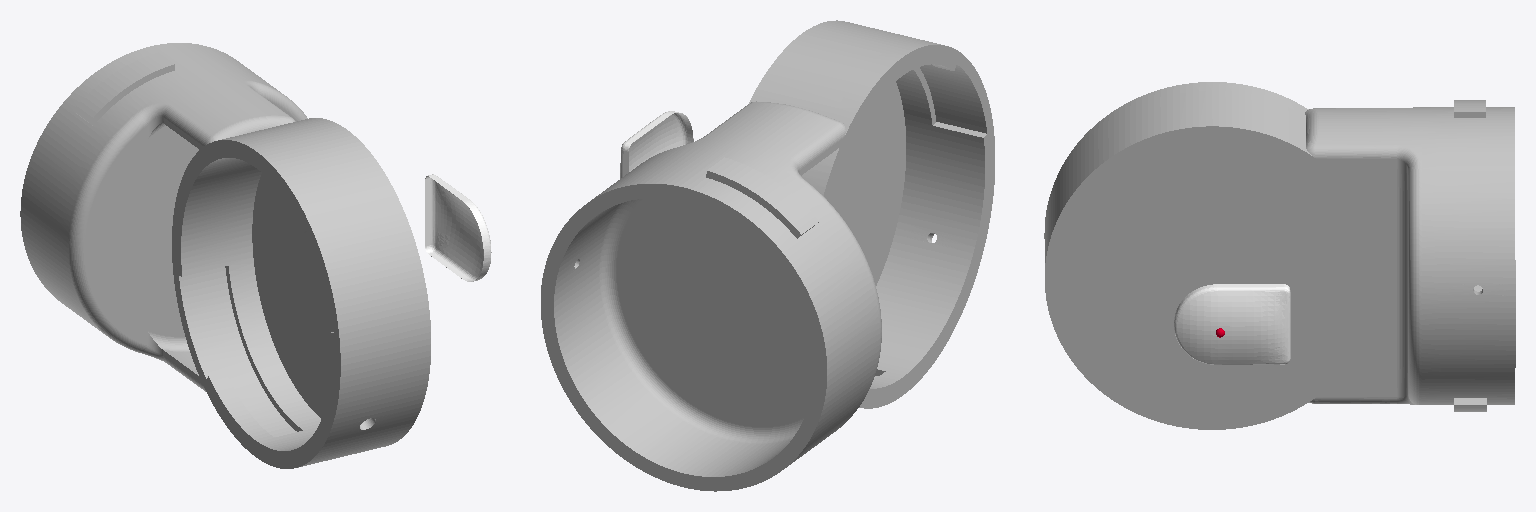
The robot description file, URDF, robot "universal_robot":
<?xml version="1.0"?>
<!--FOR GRIPPER, THERE IS NO LINK INERTIA DEFINED HERE-->
<robot name="universal_robot">

  <!-- Colors -->
  <material name="DarkGrey">
    <color rgba="0.2 0.2 0.2 1.0"/>
  </material>
  <material name="Grey">
    <color rgba="0.4 0.4 0.4 1.0"/>
  </material>
  <material name="Orange">
    <color rgba="1.0 0.423529411765 0.0392156862745 1.0"/>
  </material>
  <material name="Blue">
    <color rgba="0 0.1 1.0 1.0"/>
  </material>
  <material name="LightGrey">
    <color rgba="0.7 0.7 0.7 1.0"/>
  </material>
  <material name="Red">
    <color rgba="0.9 0 0.2 1.0"/>
  </material>
  <material name="TransparentRed">
    <color rgba="0.9 0 0.2 0.5"/>
  </material>
  <material name="Green">
    <color rgba="0 0.9 0.5 1.0"/>
  </material>
  <material name="Yellow">
    <color rgba="0.7 0.7 0 1.0"/>
  </material>
  <material name="LightBlue">
    <color rgba="0. 0.3 1.0 1.0"/>
  </material>
  <material name="Black">
    <color rgba="0.05 0.05 0.05 1.0"/>
  </material>
  <material name="White">
    <color rgba="1.0 1.0 1.0 1.0" />
  </material>



    <!-- connect arm to world -->
      <link name="world"/>
      <joint name="world_joint" type="fixed">
        <parent link="world"/>
        <child link="base_link"/>
        <origin rpy="0.0 0.0 -3.14" xyz="0.0 0.0 0.0"/>
      </joint>


      <link name="base_link">
        <visual>
          <geometry>
            <mesh filename="visual/base.obj"/>
          </geometry>
          <material name="LightGrey"/>
        </visual>
        <collision>
          <geometry>
            <mesh filename="collision/base.stl"/>
          </geometry>
        </collision>
        <inertial>
          <mass value="4.0"/>
          <origin rpy="0 0 0" xyz="0.0 0.0 0.0"/>
          <inertia ixx="0.00443333156" ixy="0.0" ixz="0.0" iyy="0.00443333156" iyz="0.0" izz="0.0072"/>
        </inertial>
      </link>

      <joint name="base_joint" type="revolute">
        <parent link="base_link"/>
        <child link="shoulder_link"/>
        <origin rpy="0.0 0.0 0.0" xyz="0.0 0.0 0.089159"/>
        <axis xyz="0 0 1"/>
        <limit effort="150.0" lower="-100" upper="100" velocity="3.15"/>
        <dynamics damping="0.5" friction="0.0"/>
      </joint>

      <link name="shoulder_link">
        <visual>
          <geometry>
            <mesh filename="visual/shoulder.obj"/>
          </geometry>
          <material name="DarkGrey"/>
        </visual>
        <collision>
          <geometry>
            <mesh filename="collision/shoulder.stl"/>
          </geometry>
        </collision>
        <inertial>
          <mass value="3.7"/>
          <origin rpy="0 0 0" xyz="0.0 0.0 0.0"/>
          <inertia ixx="0.010267495893" ixy="0.0" ixz="0.0" iyy="0.010267495893" iyz="0.0" izz="0.00666"/>
        </inertial>
      </link>

      <joint name="shoulder_joint" type="revolute">
        <parent link="shoulder_link"/>
        <child link="upper_arm_link"/>
        <origin rpy="0.0 1.57079632679 0.0" xyz="0.0 0.13585 0.0"/>
        <axis xyz="0 1 0"/>
        <limit effort="150.0" lower="-100" upper="100" velocity="3.15"/>
        <dynamics damping="0.5" friction="0.0"/>
      </joint>

      <link name="upper_arm_link">
        <visual>
          <geometry>
            <mesh filename="visual/upperarm.obj"/>
          </geometry>
          <material name="LightGrey"/>
        </visual>
        <collision>
          <geometry>
            <mesh filename="collision/upperarm.stl"/>
          </geometry>
        </collision>
        <inertial>
          <mass value="8.393"/>
          <origin rpy="0 0 0" xyz="0.0 0.0 0.28"/>
          <inertia ixx="0.22689067591" ixy="0.0" ixz="0.0" iyy="0.22689067591" iyz="0.0" izz="0.0151074"/>
        </inertial>
      </link>

      <joint name="elbow_joint" type="revolute">
        <parent link="upper_arm_link"/>
        <child link="forearm_link"/>
        <origin rpy="0.0 0.0 0.0" xyz="0.0 -0.1197 0.425"/>
        <axis xyz="0 1 0"/>
        <limit effort="150.0" lower="-100" upper="100" velocity="3.15"/>
        <dynamics damping="0.5" friction="0.0"/>
      </joint>

      <link name="forearm_link">
        <visual>
          <geometry>
            <mesh filename="visual/forearm.obj"/>
          </geometry>
          <material name="DarkGrey"/>
        </visual>
        <collision>
          <geometry>
            <mesh filename="collision/forearm.stl"/>
          </geometry>
        </collision>
        <inertial>
          <mass value="2.275"/>
          <origin rpy="0 0 0" xyz="0.0 0.0 0.25"/>
          <inertia ixx="0.049443313556" ixy="0.0" ixz="0.0" iyy="0.049443313556" iyz="0.0" izz="0.004095"/>
        </inertial>
      </link>

      <joint name="wrist_1_joint" type="revolute">
        <parent link="forearm_link"/>
        <child link="wrist_1_link"/>
        <origin rpy="0.0 1.57079632679 0.0" xyz="0.0 0.0 0.39225"/>
        <axis xyz="0 1 0"/>
        <limit effort="28.0" lower="-100" upper="100" velocity="3.2"/>
        <dynamics damping="0.5" friction="0.0"/>
      </joint>

      <link name="wrist_1_link">
        <visual>
          <geometry>
            <mesh filename="visual/wrist1.obj"/>
          </geometry>
          <material name="LightGrey"/>
        </visual>
        <collision>
          <geometry>
            <mesh filename="collision/wrist1.stl"/>
          </geometry>
        </collision>
        <inertial>
          <mass value="1.219"/>
          <origin rpy="0 0 0" xyz="0.0 0.0 0.0"/>
          <inertia ixx="0.111172755531" ixy="0.0" ixz="0.0" iyy="0.111172755531" iyz="0.0" izz="0.21942"/>
        </inertial>
      </link>

      <joint name="wrist_2_joint" type="revolute">
        <parent link="wrist_1_link"/>
        <child link="wrist_2_link"/>
        <origin rpy="0.0 0.0 0.0" xyz="0.0 0.093 0.0"/>
        <axis xyz="0 0 1"/>
        <limit effort="28.0" lower="-100" upper="100" velocity="3.2"/>
        <dynamics damping="0.5" friction="0.0"/>
      </joint>

      <link name="wrist_2_link">
        <visual>
          <geometry>
            <mesh filename="visual/wrist2.obj"/>
          </geometry>
          <material name="DarkGrey"/>
        </visual>
        <collision>
          <geometry>
            <mesh filename="collision/wrist2.stl"/>
          </geometry>
        </collision>
        <inertial>
          <mass value="1.219"/>
          <origin rpy="0 0 0" xyz="0.0 0.0 0.0"/>
          <inertia ixx="0.111172755531" ixy="0.0" ixz="0.0" iyy="0.111172755531" iyz="0.0" izz="0.21942"/>
        </inertial>
      </link>

      <joint name="wrist_3_joint" type="revolute">
        <parent link="wrist_2_link"/>
        <child link="wrist_3_link"/>
        <origin rpy="0.0 0.0 0.0" xyz="0.0 0.0 0.09465"/>
        <axis xyz="0 1 0"/>
        <limit effort="28.0" lower="-100" upper="100" velocity="3.2"/>
        <dynamics damping="0.5" friction="0.0"/>
      </joint>

      <link name="wrist_3_link">
        <visual>
          <geometry>
            <mesh filename="visual/wrist3.obj"/>
          </geometry>
          <material name="LightGrey"/>
        </visual>
        <collision>
          <geometry>
            <mesh filename="collision/wrist3.stl"/>
          </geometry>
        </collision>
        <inertial>
          <mass value="0.1879"/>
          <origin rpy="0 0 0" xyz="0.0 0.0 0.0"/>
          <inertia ixx="0.0171364731454" ixy="0.0" ixz="0.0" iyy="0.0171364731454" iyz="0.0" izz="0.033822"/>
        </inertial>
      </link>

      <!-- End Effector -->

      <joint name="ee_joint" type="fixed">
        <parent link="wrist_3_link"/>
        <child link="ee_link"/>
        <origin rpy="1.57 3.14 0.0" xyz="0.0 0.0823 0.0"/>
      </joint>

      <link name="ee_link">
        <visual>
          <origin rpy="0 0 0" xyz="0 0 0"/>
          <geometry>
            <sphere radius="0.001"/>
          </geometry>
           <material name="Red"/>
        </visual>
        <collision>
          <geometry>
            <sphere radius="0.001"/>
          </geometry>
          <origin rpy="0 0 0" xyz="0.0 0 0"/>
        </collision>
        <inertial>
          <mass value="0.0"/>
          <origin rpy="-3.14 0.0 1.57" xyz="0.0 0.0 0.0"/>
          <inertia ixx="0.001" ixy="0.0" ixz="0.0" iyy="0.001" iyz="0.0" izz="0.001"/>
        </inertial>
      </link>

      <!-- Digit -->

      <link name="tactip_adapter_link">
        <inertial>
          <origin rpy="0 0 0" xyz="0 0 0"/>
           <mass value="0.1"/>
           <inertia ixx="0.001" ixy="0" ixz="0" iyy="0.001" iyz="0" izz="0.001"/>
        </inertial>
        <visual>
          <origin rpy="0 0 0" xyz="0 0 0"/>
          <geometry>
    				<mesh filename="../tactip/right_angle_tactip/adapter/right_angle_adapter.obj" scale="1.0 1.0 1.0"/>
          </geometry>
           <material name="whitish">
            <color rgba="0.8 0.8 0.8 1.0"/>
          </material>
        </visual>
        <collision>
          <origin rpy="0 0 0" xyz="0 0 0"/>
          <geometry>
    				<mesh filename="../tactip/right_angle_tactip/adapter/right_angle_adapter.obj" scale="1.0 1.0 1.0"/>
          </geometry>
        </collision>
      </link>

      <joint name="digit_ee_joint" type="fixed">
        <parent link="ee_link"/>
        <child link="tactip_adapter_link"/>
        <origin rpy="-1.57 -1.57 -1.57" xyz="0.0 0.005 -0.04"/>
      </joint>

  <link
    name="digit_body_link">
    <inertial>
      <origin
        xyz="0.00443338071044421 -0.0140914049333968 4.96453152977634E-09+0.02"
        rpy="0 0 0" />
      <mass
        value="0.0077837104153161" />
      <inertia
        ixx="7.77176839696665E-07"
        ixy="-5.52554519832781E-09"
        ixz="-2.21347841658254E-13"
        iyy="1.5788930001559E-06"
        iyz="-8.96409493368731E-14"
        izz="1.05613167218354E-06" />
    </inertial>
    <visual>
      <origin
        xyz="0 0 0.02"
        rpy="0 0 0" />
      <geometry>
        <mesh
          filename="../digit/standard_digit/digit_asmb/meshes/digit_body.STL" />
      </geometry>
      <material
        name="digit_body">
        <color
          rgba="0.0 0.0 0.0 1" />
      </material>
    </visual>
    <collision>
      <origin
        xyz="0 0 0.02"
        rpy="0 0 0" />
      <geometry>
        <mesh
          filename="../digit/standard_digit/digit_asmb/meshes/digit_body.STL" />
      </geometry>
    </collision>
  </link>


      <joint name="digitac_body_to_adapter" type="fixed">
         <origin rpy="0 3.14 3.14" xyz="0 0 -0.014"/>
         <parent link="tactip_adapter_link"/>
         <child link="digit_body_link"/>
      </joint>


  <link
    name="digit_tip_link">
    <inertial>
      <origin
        xyz="-2.15568578500849E-07 0.00554133274527847 -0.00576051345741577-0.02"
        rpy="0 0 0" />
      <mass
        value="0.00130411151086353" />
      <inertia
        ixx="5.48284140746448E-08"
        ixy="-4.02703926962539E-12"
        ixz="-5.29135712007007E-14"
        iyy="3.03790231207661E-08"
        iyz="-1.56642204167579E-10"
        izz="8.26200689636922E-08" />
    </inertial>
    <visual>
      <origin
        xyz="0 0 -0.02"
        rpy="0 0 0" />
      <geometry>
        <mesh
          filename="../digit/standard_digit/digit_asmb_hollow/meshes/digit_core.STL" scale="1.0 1.0 1.0"/>
      </geometry>
      <material
        name="digit_skin">
        <color
          rgba="1.0 1.0 1.0 1" />
      </material>
    </visual>
    <collision>
      <origin
        xyz="0 0 -0.02"
        rpy="0 0 0" />
      <geometry>
        <mesh
          filename="../digit/standard_digit/digit_asmb/meshes/digit_core.STL" />
      </geometry>
    </collision>
  </link>

  <joint
    name="digit_tip_to_body"
    type="fixed">
    <origin
      xyz="-0.00151521951809463 -1.36251105150219E-05 -0.00415"
      rpy="-3.14159265358979 0 1.5707963267949" />
    <parent
      link="digit_body_link" />
    <child
      link="digit_tip_link" />
    <axis
      xyz="0 0 0" />
  </joint>

  
      <!-- TCP -->
      <link name="tcp_link">
        <visual>
          <origin rpy="0 0 0" xyz="0 0 0"/>
          <geometry>
            <sphere radius="0.001"/>
          </geometry>
           <material name="TransparentRed"/>
        </visual>
        <inertial>
          <mass value="0.0"/>
          <origin rpy="0.0 0.0 1.57" xyz="0.0 0.0 0.0"/>
          <inertia ixx="1.0" ixy="0.0" ixz="0.0" iyy="1.0" iyz="0.0" izz="1.0"/>
        </inertial>
      </link>

      <joint name="tcp_joint" type="fixed">
        <parent link="digit_body_link"/>
        <child link="tcp_link"/>
        <origin rpy="1.57 0 -1.57" xyz="0.0007 0.0 0.025"/>
      </joint>

</robot>

--- Facts derived from the render (not from the file) ---
3 views of the same robot in one strip: view 1: azimuth 30°, elevation 25°; view 2: azimuth 150°, elevation 25°; view 3: azimuth 270°, elevation 25° (orthographic).
Robot: universal_robot — 13 links, 12 joints (6 revolute, 6 fixed); root link world; default pose: every joint at zero.
Visible links, largest first — view 1: tactip_adapter_link, digit_tip_link; view 2: tactip_adapter_link, digit_tip_link; view 3: tactip_adapter_link, digit_tip_link.
Boxes of the visible links, x1,y1,x2,y2 form: tactip_adapter_link: [20, 43, 430, 468]; digit_tip_link: [425, 174, 491, 281]; tactip_adapter_link: [541, 20, 994, 491]; digit_tip_link: [620, 111, 693, 178]; tactip_adapter_link: [1044, 82, 1515, 429]; digit_tip_link: [1174, 284, 1290, 364].
Size in the robot's own frame: 0.0781 by 0.1011 by 0.0721 metres.
2 mesh visuals loaded from 10 distinct referenced files (1 binary STL, 1 OBJ); not drawn: 8 (reference not matched to a file when rendering).